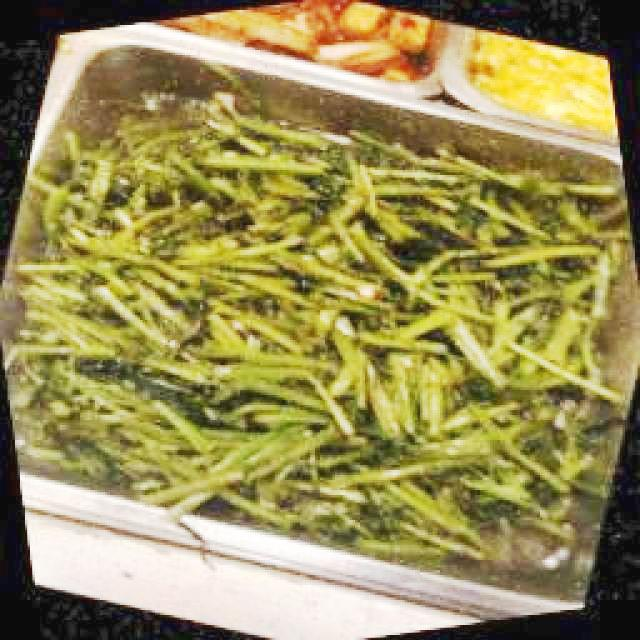water_spinach: (19, 186, 611, 455), (88, 447, 414, 512), (260, 168, 552, 231), (90, 135, 296, 203), (132, 144, 341, 174)
